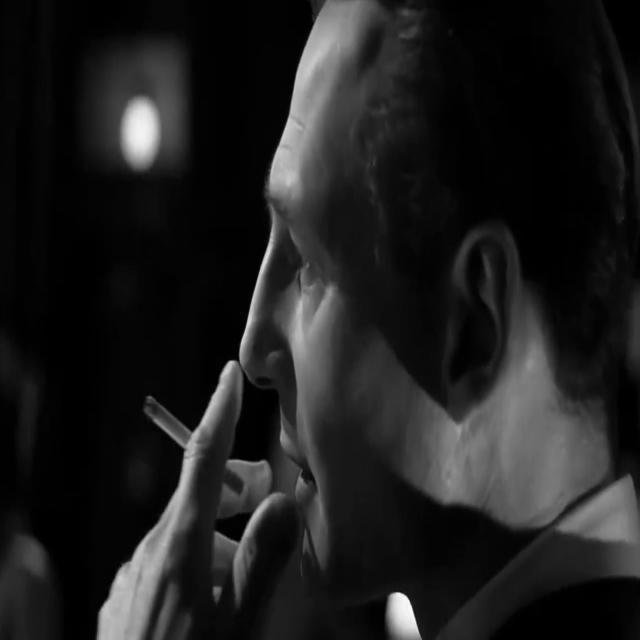Smooking: (142, 388, 264, 507)
